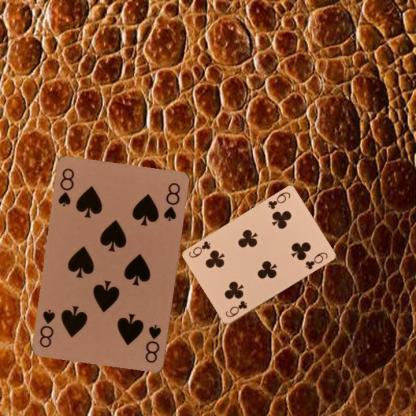6c: (265, 189, 292, 211), (223, 298, 249, 319)
8s: (56, 166, 76, 209), (143, 322, 162, 364)
